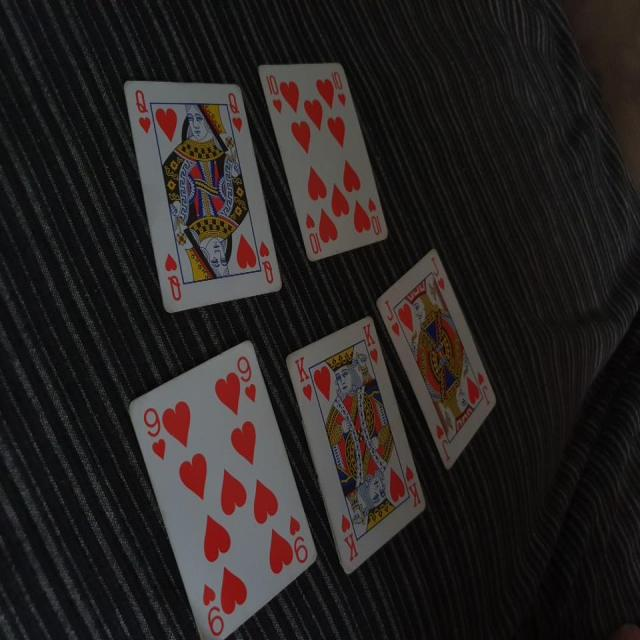10 Hearts: (253, 54, 396, 257)
9 Hearts: (125, 334, 321, 630)
J Hearts: (371, 244, 498, 473)
K Hearts: (284, 316, 429, 578)
Q Hearts: (120, 75, 289, 313)
